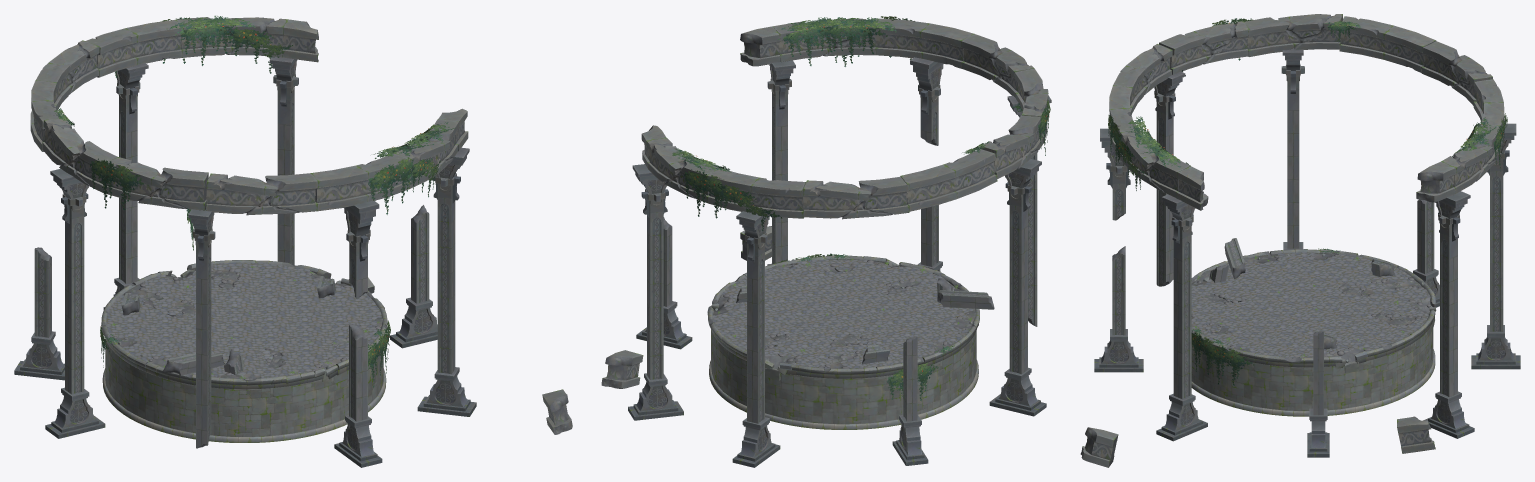
Rendered from Area_MdBuild_SdRingPlatform01_Group.fbx.
3 renders of one model, left to right at view 1: azimuth 30°, elevation 25°; view 2: azimuth 150°, elevation 25°; view 3: azimuth 270°, elevation 25°, orthographic. The views are drawn at different scales.
Visible parts, largest first — view 1: Area_MdBuild_SdPlatform12_Lod0, Area_MdProps_SdRing03_Lod0.004, Area_MdProps_SdRing01_Lod0.001, Area_MdProps_SdRing03_Lod0.002, Area_MdProps_SdRing01_Lod0.002, Area_MdProps_SdRing03_Lod0.005, Area_MdProps_SdPillar02_14_Lod0.004, Area_MdProps_SdPillar02_14_Lod0, Area_MdProps_SdRing03_Lod0.001, Area_MdProps_SdRing03_Lod0.003, Area_MdProps_SdPillar02_14_Lod0.002, Area_MdProps_SdPillar02_14_Lod0.003 (+26 smaller); view 2: Area_MdBuild_SdPlatform12_Lod0, Area_MdProps_SdRing03_Lod0.003, Area_MdProps_SdRing01_Lod0, Area_MdProps_SdRing01_Lod0.002, Area_MdProps_SdRing01_Lod0.001, Area_MdProps_SdRing03_Lod0.004, Area_MdProps_SdPillar02_14_Lod0.004, Area_MdProps_SdRing03_Lod0.005, Area_MdProps_SdPillar02_14_Lod0.003, Area_MdProps_SdPillar02_14_Lod0.001, Area_MdProps_SdRing03_Lod0, Area_MdProps_SdRing03_Lod0.001 (+29 smaller); view 3: Area_MdBuild_SdPlatform12_Lod0, Area_MdProps_SdRing03_Lod0.005, Area_MdProps_SdRing01_Lod0, Area_MdProps_SdRing03_Lod0.002, Area_MdProps_SdRing03_Lod0.003, Area_MdProps_SdPillar02_14_Lod0, Area_MdProps_SdPillar02_14_Lod0.003, Area_MdProps_SdRing03_Lod0, Area_MdProps_SdRing03_Lod0.004, Area_MdProps_SdRing03_Lod0.001, Area_MdProps_SdPillar02_14_Lod0.001, Area_MdProps_SdPillar02_14_Lod0.004 (+28 smaller).
Part boxes in pixels (box(x1,y1,x2,y2)): Area_MdBuild_SdPlatform12_Lod0: box(101, 260, 387, 442); Area_MdProps_SdRing03_Lod0.004: box(206, 173, 318, 215); Area_MdProps_SdRing01_Lod0.001: box(85, 19, 183, 77); Area_MdProps_SdRing03_Lod0.002: box(104, 157, 208, 210); Area_MdProps_SdRing01_Lod0.002: box(311, 153, 410, 211); Area_MdProps_SdRing03_Lod0.005: box(42, 118, 117, 193); Area_MdProps_SdPillar02_14_Lod0.004: box(61, 193, 88, 319); Area_MdProps_SdPillar02_14_Lod0: box(432, 173, 460, 298); Area_MdProps_SdRing03_Lod0.001: box(176, 17, 286, 57); Area_MdProps_SdRing03_Lod0.003: box(36, 40, 99, 110); Area_MdProps_SdPillar02_14_Lod0.002: box(192, 229, 215, 355); Area_MdProps_SdPillar02_14_Lod0.003: box(273, 74, 298, 175); Area_MdBuild_SdPlatform12_Lod0: box(707, 255, 979, 429); Area_MdProps_SdRing03_Lod0.003: box(803, 176, 909, 219); Area_MdProps_SdRing01_Lod0: box(900, 149, 997, 211); Area_MdProps_SdRing01_Lod0.002: box(875, 18, 974, 68); Area_MdProps_SdRing01_Lod0.001: box(706, 168, 805, 218); Area_MdProps_SdRing03_Lod0.004: box(961, 34, 1033, 97); Area_MdProps_SdPillar02_14_Lod0.004: box(1005, 182, 1031, 302); Area_MdProps_SdRing03_Lod0.005: box(980, 115, 1042, 178); Area_MdProps_SdPillar02_14_Lod0.003: box(641, 189, 668, 308); Area_MdProps_SdPillar02_14_Lod0.001: box(744, 232, 767, 351); Area_MdProps_SdRing03_Lod0: box(773, 18, 878, 62); Area_MdProps_SdRing03_Lod0.001: box(646, 137, 719, 202); Area_MdBuild_SdPlatform12_Lod0: box(1191, 249, 1436, 416); Area_MdProps_SdRing03_Lod0.005: box(1244, 14, 1343, 56); Area_MdProps_SdRing01_Lod0: box(1339, 16, 1436, 72); Area_MdProps_SdRing03_Lod0.002: box(1159, 21, 1249, 74); Area_MdProps_SdRing03_Lod0.003: box(1421, 41, 1492, 105); Area_MdProps_SdPillar02_14_Lod0: box(1171, 215, 1193, 330); Area_MdProps_SdPillar02_14_Lod0.003: box(1438, 212, 1460, 328); Area_MdProps_SdRing03_Lod0: box(1120, 130, 1190, 197); Area_MdProps_SdRing03_Lod0.004: box(1113, 44, 1172, 113); Area_MdProps_SdRing03_Lod0.001: box(1441, 124, 1500, 193); Area_MdProps_SdPillar02_14_Lod0.001: box(1487, 150, 1509, 262); Area_MdProps_SdPillar02_14_Lod0.004: box(1281, 64, 1304, 179).
Bounding box in the file's own units: 702 × 498 × 704.
Materials: 8 (8 with a texture image).
